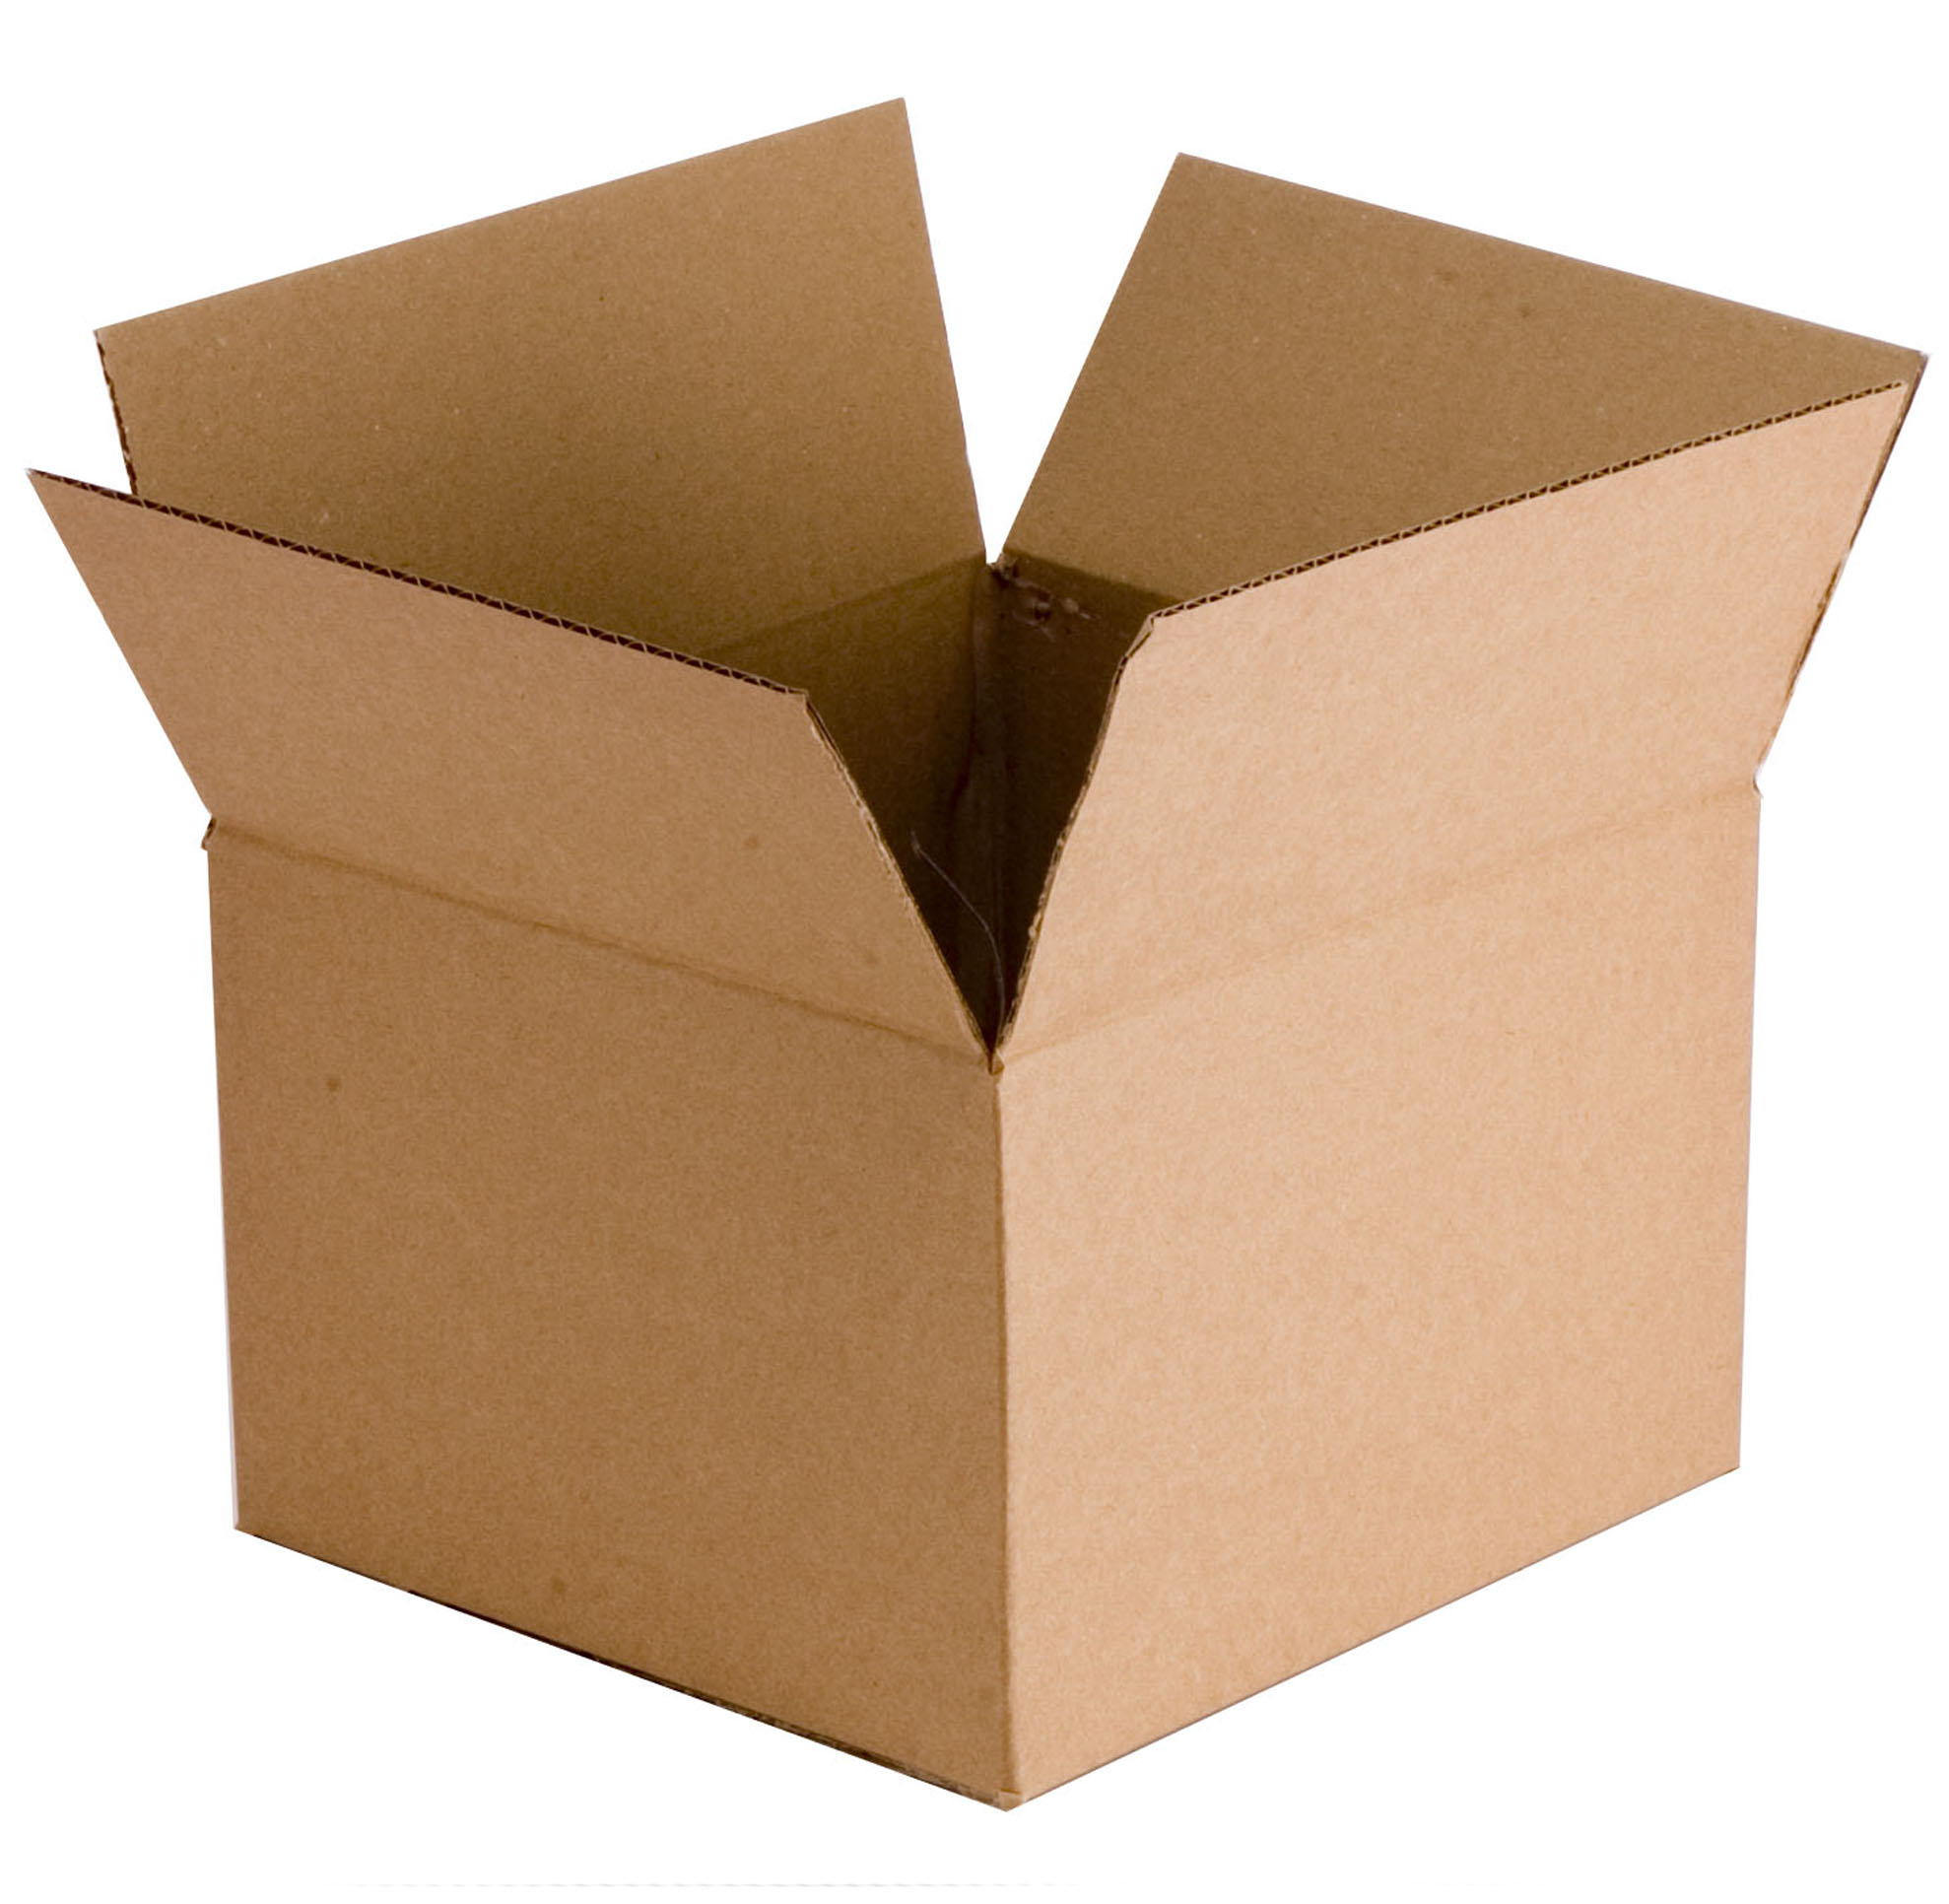Rec_Paper: (9, 45, 1925, 1801)
